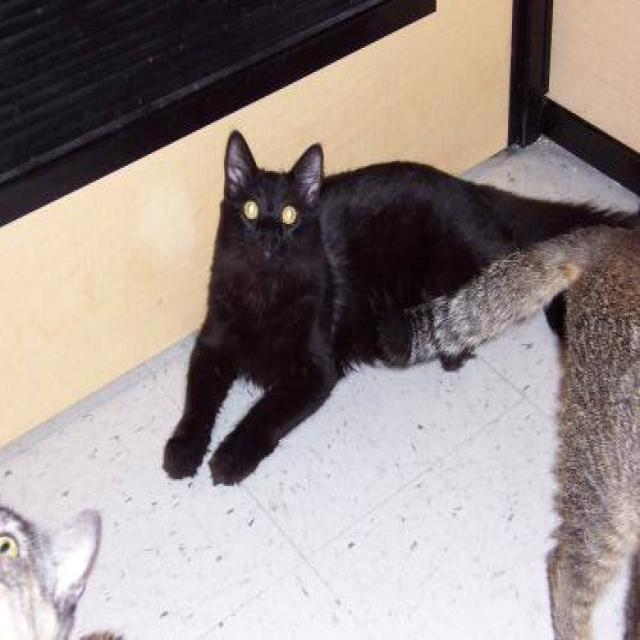cat: (161, 128, 639, 488)
